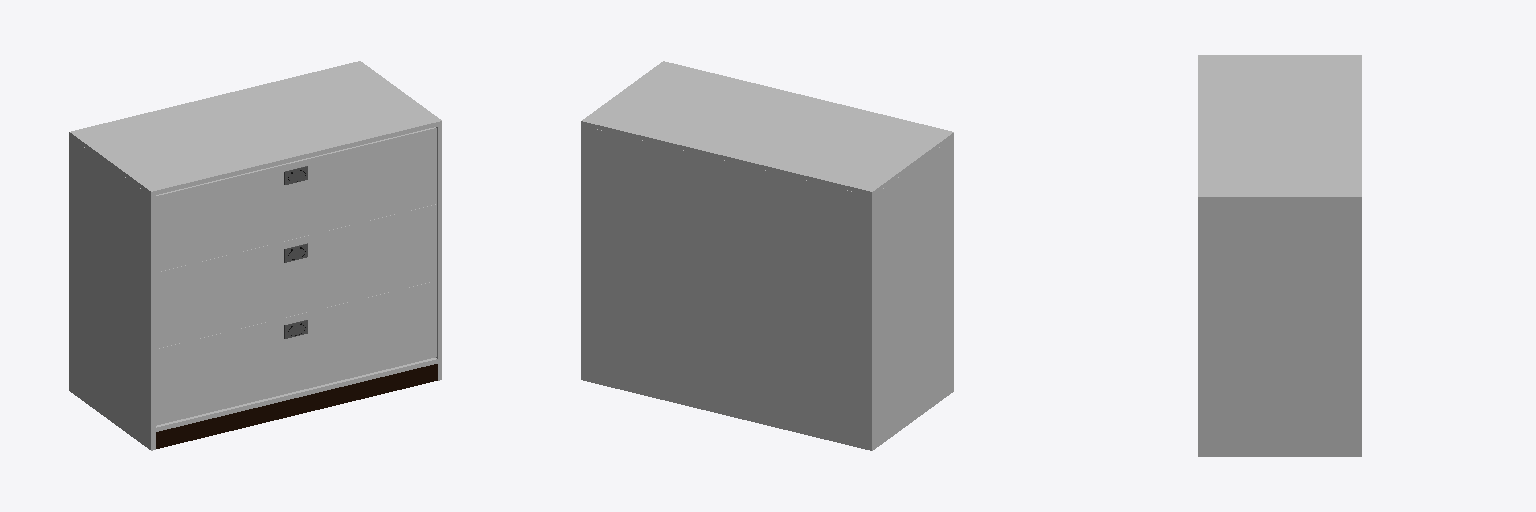
Rendered from Пилигримм.obj.
3 renders of one model, left to right at view 1: azimuth 30°, elevation 25°; view 2: azimuth 150°, elevation 25°; view 3: azimuth 270°, elevation 25°, orthographic.
Parts seen in each view (by area): view 1: Cube.007_Cube.008, Cube.004_Cube.005, Cube.005_Cube.006, Cube.002_Cube.003, Cylinder.002; view 2: Cube.004_Cube.005; view 3: Cube.004_Cube.005.
Part boxes in pixels (left/top/right/bottom): Cube.007_Cube.008: left=156, top=127, right=436, bottom=425; Cube.004_Cube.005: left=69, top=61, right=441, bottom=450; Cube.005_Cube.006: left=156, top=364, right=437, bottom=448; Cube.002_Cube.003: left=156, top=358, right=437, bottom=431; Cylinder.002: left=284, top=166, right=307, bottom=338; Cube.004_Cube.005: left=581, top=61, right=953, bottom=450; Cube.004_Cube.005: left=1198, top=55, right=1361, bottom=456.
Size of the model in its own units: 1.8 by 1.53 by 0.8813.